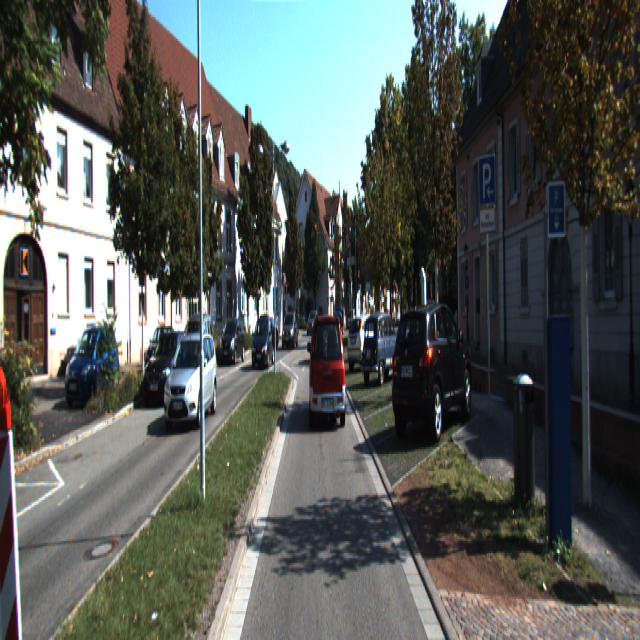Car: (389, 297, 474, 440), (163, 324, 218, 430), (63, 321, 119, 401), (309, 312, 346, 429), (142, 328, 194, 408), (361, 307, 407, 386), (64, 317, 120, 374), (180, 310, 213, 386), (346, 311, 387, 367), (252, 314, 275, 369), (218, 316, 244, 364), (255, 316, 278, 350), (282, 311, 298, 349)
